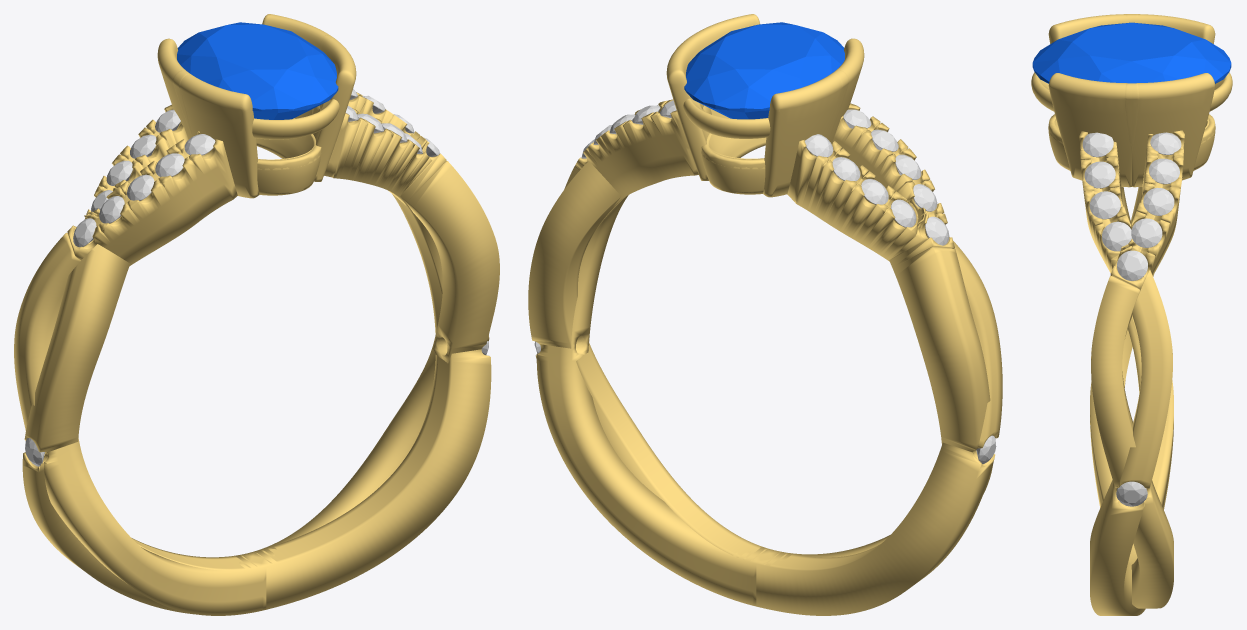
Rendered from bluesapphire-oval-yellowgold-halfmoonbezel-twist-sidestones.glb.
3 renders of one model, left to right at view 1: azimuth 30°, elevation 25°; view 2: azimuth 150°, elevation 25°; view 3: azimuth 270°, elevation 25°, orthographic.
Parts seen in each view (by area): view 1: metal.003, stone; view 2: metal.003, stone; view 3: metal.003, stone, Twist shank diamonds.015, Twist shank diamonds.016, Twist shank diamonds.012, Twist shank diamonds.017, Twist shank diamonds.011, Twist shank diamonds.013, Twist shank diamonds.018, Twist shank diamonds.010, Twist shank diamonds.014, Twist shank diamonds.019.
Boxes of the visible parts, left/top/right/bottom form: metal.003: left=14, top=14, right=499, bottom=615; stone: left=177, top=22, right=338, bottom=119; metal.003: left=528, top=14, right=1002, bottom=615; stone: left=684, top=22, right=844, bottom=119; metal.003: left=1031, top=14, right=1232, bottom=615; stone: left=1032, top=22, right=1231, bottom=83; Twist shank diamonds.015: left=1117, top=250, right=1147, bottom=280; Twist shank diamonds.016: left=1131, top=218, right=1162, bottom=247; Twist shank diamonds.012: left=1089, top=191, right=1120, bottom=219; Twist shank diamonds.017: left=1143, top=187, right=1174, bottom=215; Twist shank diamonds.011: left=1102, top=221, right=1132, bottom=251; Twist shank diamonds.013: left=1084, top=161, right=1115, bottom=188; Twist shank diamonds.018: left=1149, top=158, right=1179, bottom=184; Twist shank diamonds.010: left=1116, top=481, right=1147, bottom=506; Twist shank diamonds.014: left=1082, top=132, right=1113, bottom=157; Twist shank diamonds.019: left=1150, top=132, right=1181, bottom=154.
Bounding box in the file's own units: 19.97 × 23.2 × 7.75.
